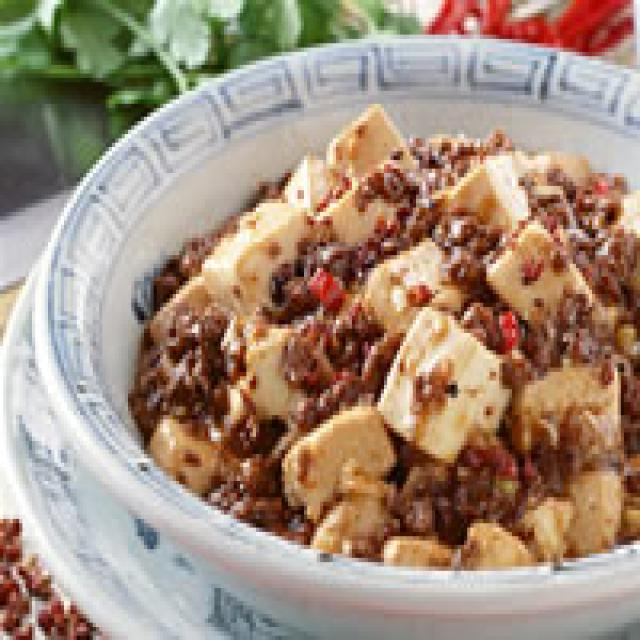豆腐料理: (29, 30, 640, 640)
